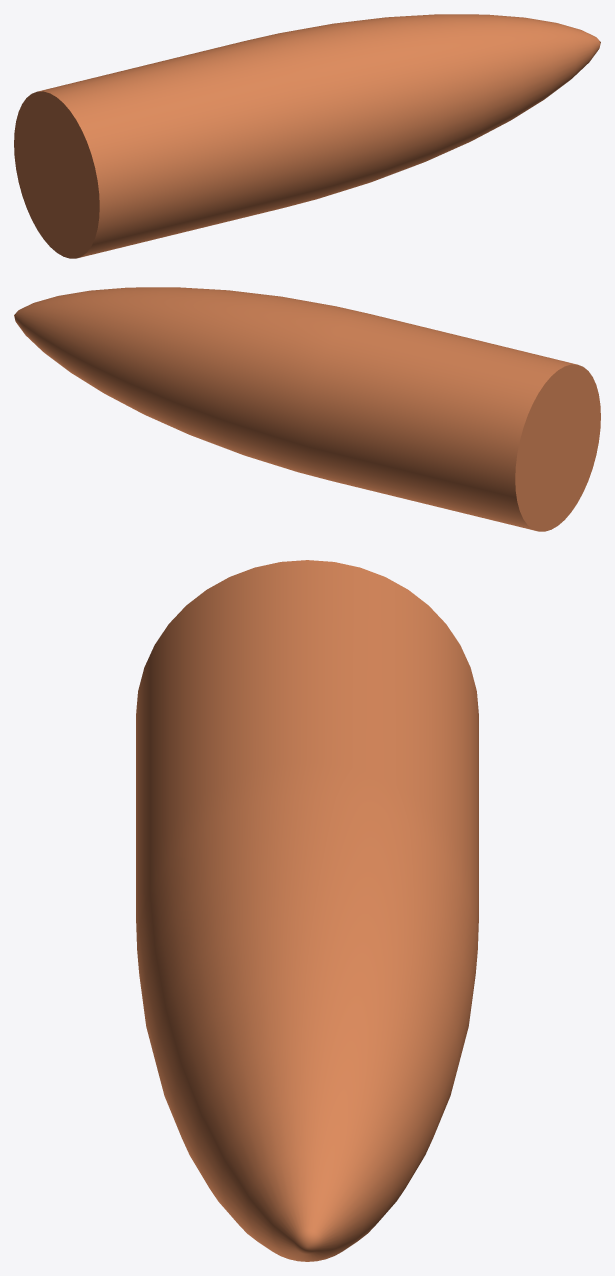
Rendered from bala_comum.obj.
3 renders of one model, top to bottom at view 1: azimuth 30°, elevation 25°; view 2: azimuth 150°, elevation 25°; view 3: azimuth 270°, elevation 25°, orthographic. The views are drawn at different scales.
Size of the model in its own units: 0.126 by 0.0344 by 0.0344.
